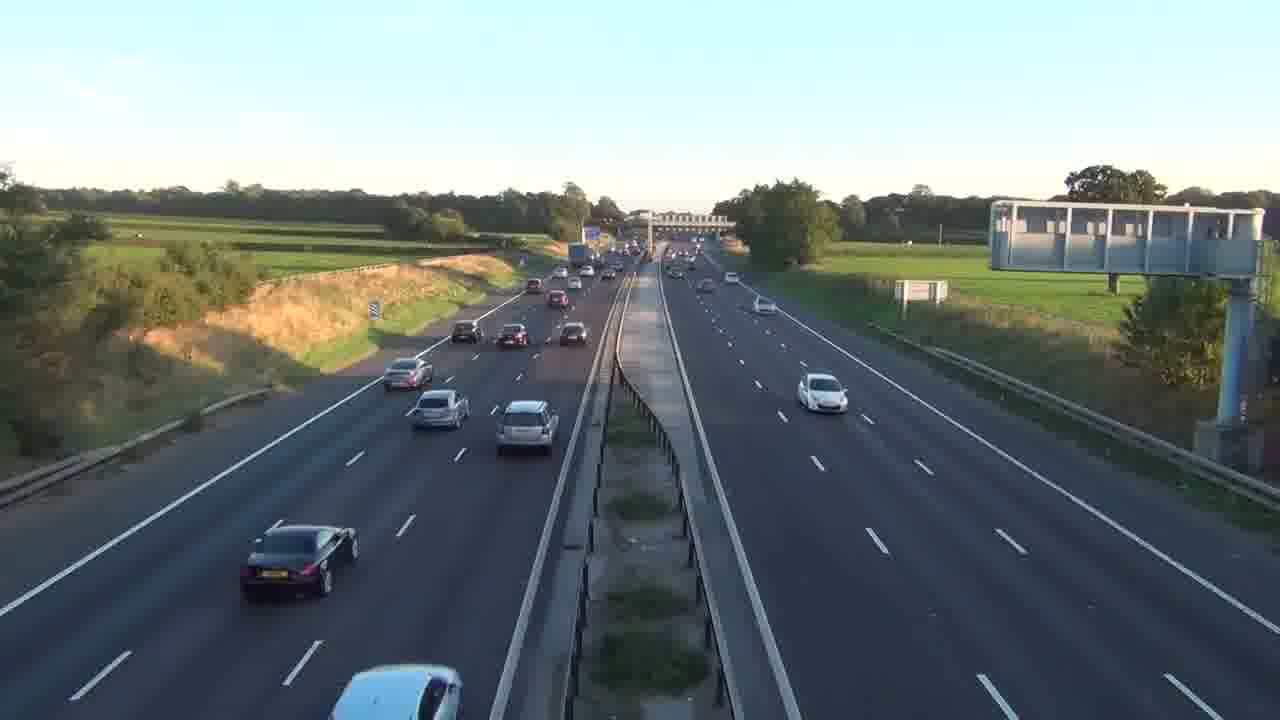car: (239, 520, 359, 603), (330, 662, 464, 719), (495, 399, 560, 454), (405, 388, 468, 431), (797, 371, 849, 413), (383, 357, 433, 391)
